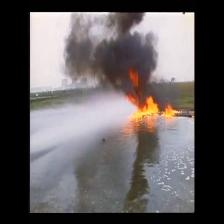fire: (137, 98, 176, 119)
smoke: (74, 44, 152, 69)
